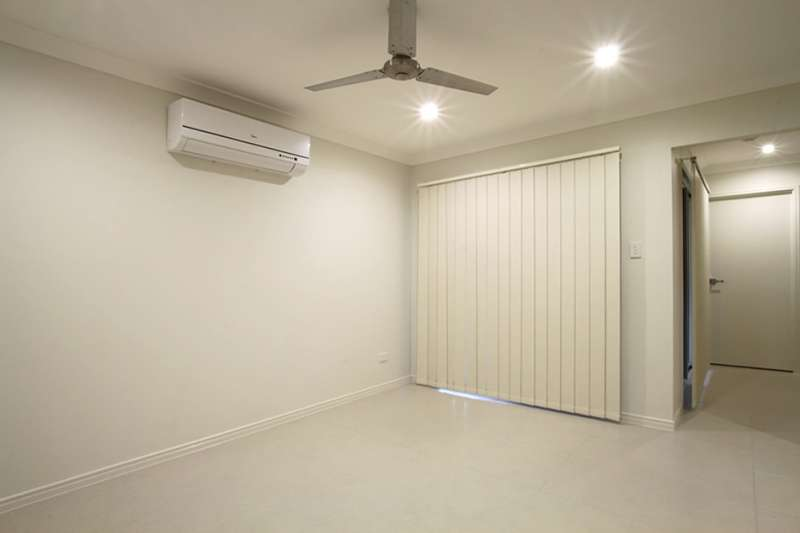ceiling fan: (298, 1, 512, 107)
